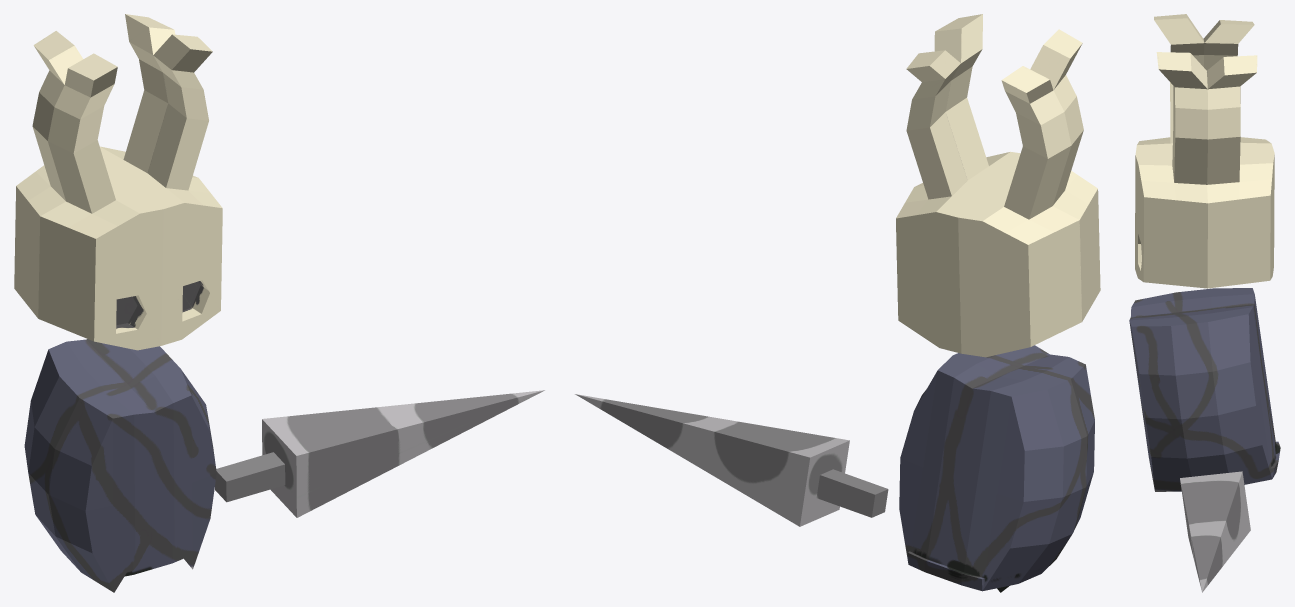
File: Hollow.fbx
3 views of the same model, side by side, from view 1: azimuth 30°, elevation 25°; view 2: azimuth 150°, elevation 25°; view 3: azimuth 270°, elevation 25° (orthographic). The views are drawn at different scales.
Visible parts, largest first — view 1: root (×2); view 2: root (×2); view 3: root (×2).
Boxes of the visible parts, x1,y1,x2,y2 form: root (×2): (14, 14, 544, 592); root (×2): (575, 14, 1100, 592); root (×2): (1129, 14, 1280, 592).
Size of the model in its own units: 0.52 by 0.5269 by 0.1589.
Materials: 2 (2 with a texture image).
